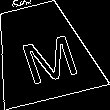M_N: (8, 21, 76, 82)
